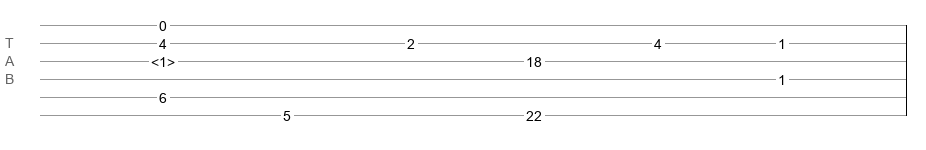0: (159, 18, 167, 28)
1: (778, 36, 786, 46), (778, 72, 786, 82)
18: (526, 54, 542, 64)
2: (407, 36, 415, 46)
22: (526, 108, 542, 118)
4: (159, 36, 167, 46), (654, 36, 662, 46)
5: (283, 108, 291, 118)
6: (159, 90, 167, 100)
harmonic: (151, 54, 175, 64)
